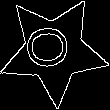O_E: (27, 27, 80, 74)
